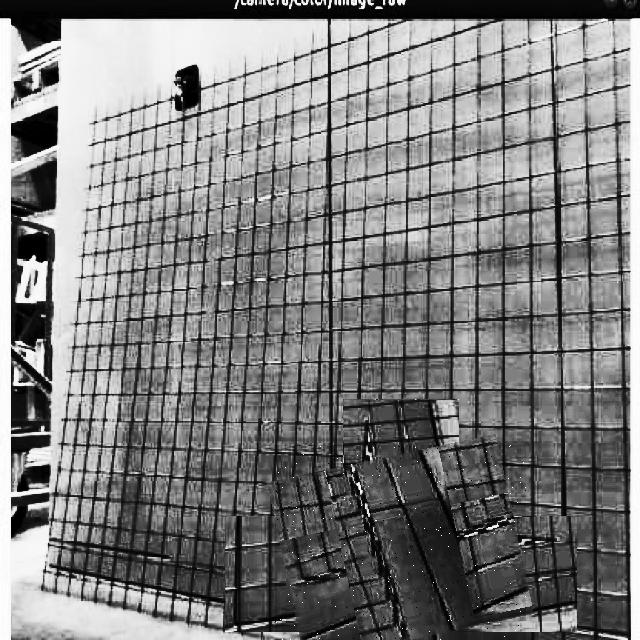anomaly-fence: (275, 445, 526, 640)
